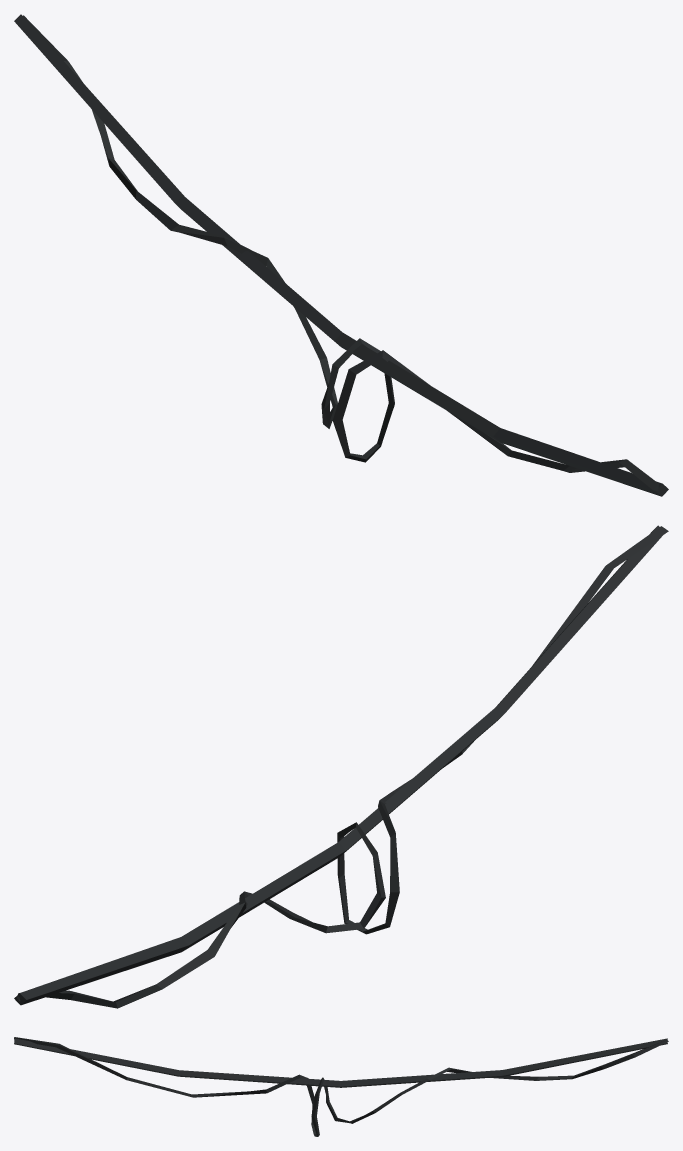
Rendered from SM_Prop_Powerline_06.glb.
3 views of the same model, one above another, from view 1: azimuth 30°, elevation 25°; view 2: azimuth 150°, elevation 25°; view 3: azimuth 270°, elevation 25° (orthographic). The views are drawn at different scales.
Visible parts, largest first — view 1: SM_Prop_Powerline_06; view 2: SM_Prop_Powerline_06; view 3: SM_Prop_Powerline_06.
Part boxes in pixels (x1=…): SM_Prop_Powerline_06: x1=14, y1=14, x2=668, y2=496; SM_Prop_Powerline_06: x1=14, y1=525, x2=668, y2=1008; SM_Prop_Powerline_06: x1=14, y1=1037, x2=668, y2=1136.
Bounding box in the file's own units: 0.4338 × 1.3 × 7.75.
Materials: 1 (1 with a texture image).
